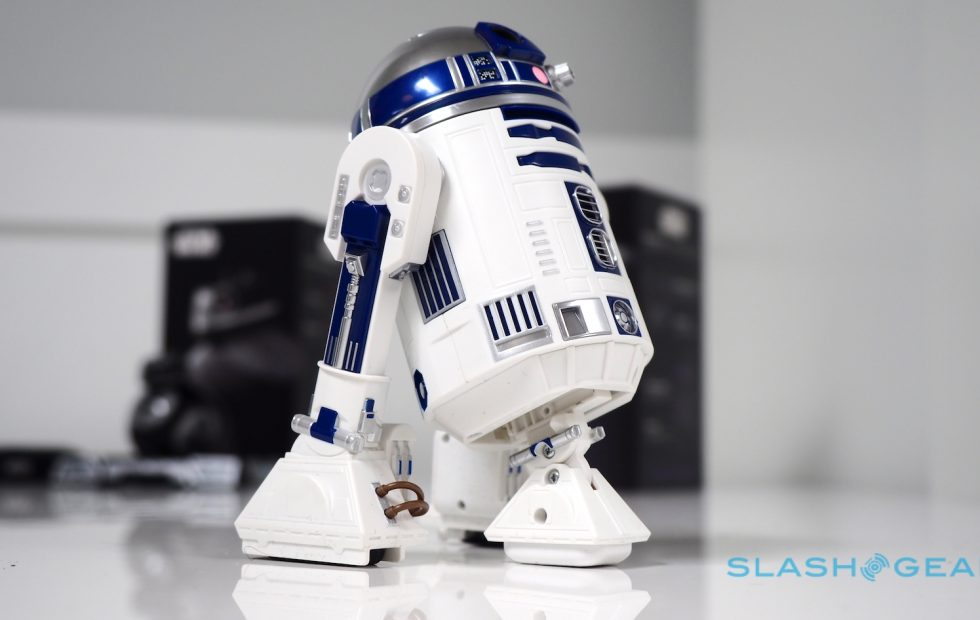r2d2: (245, 27, 653, 569)
